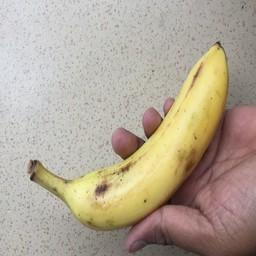Banana Ripe: (31, 38, 242, 256)
